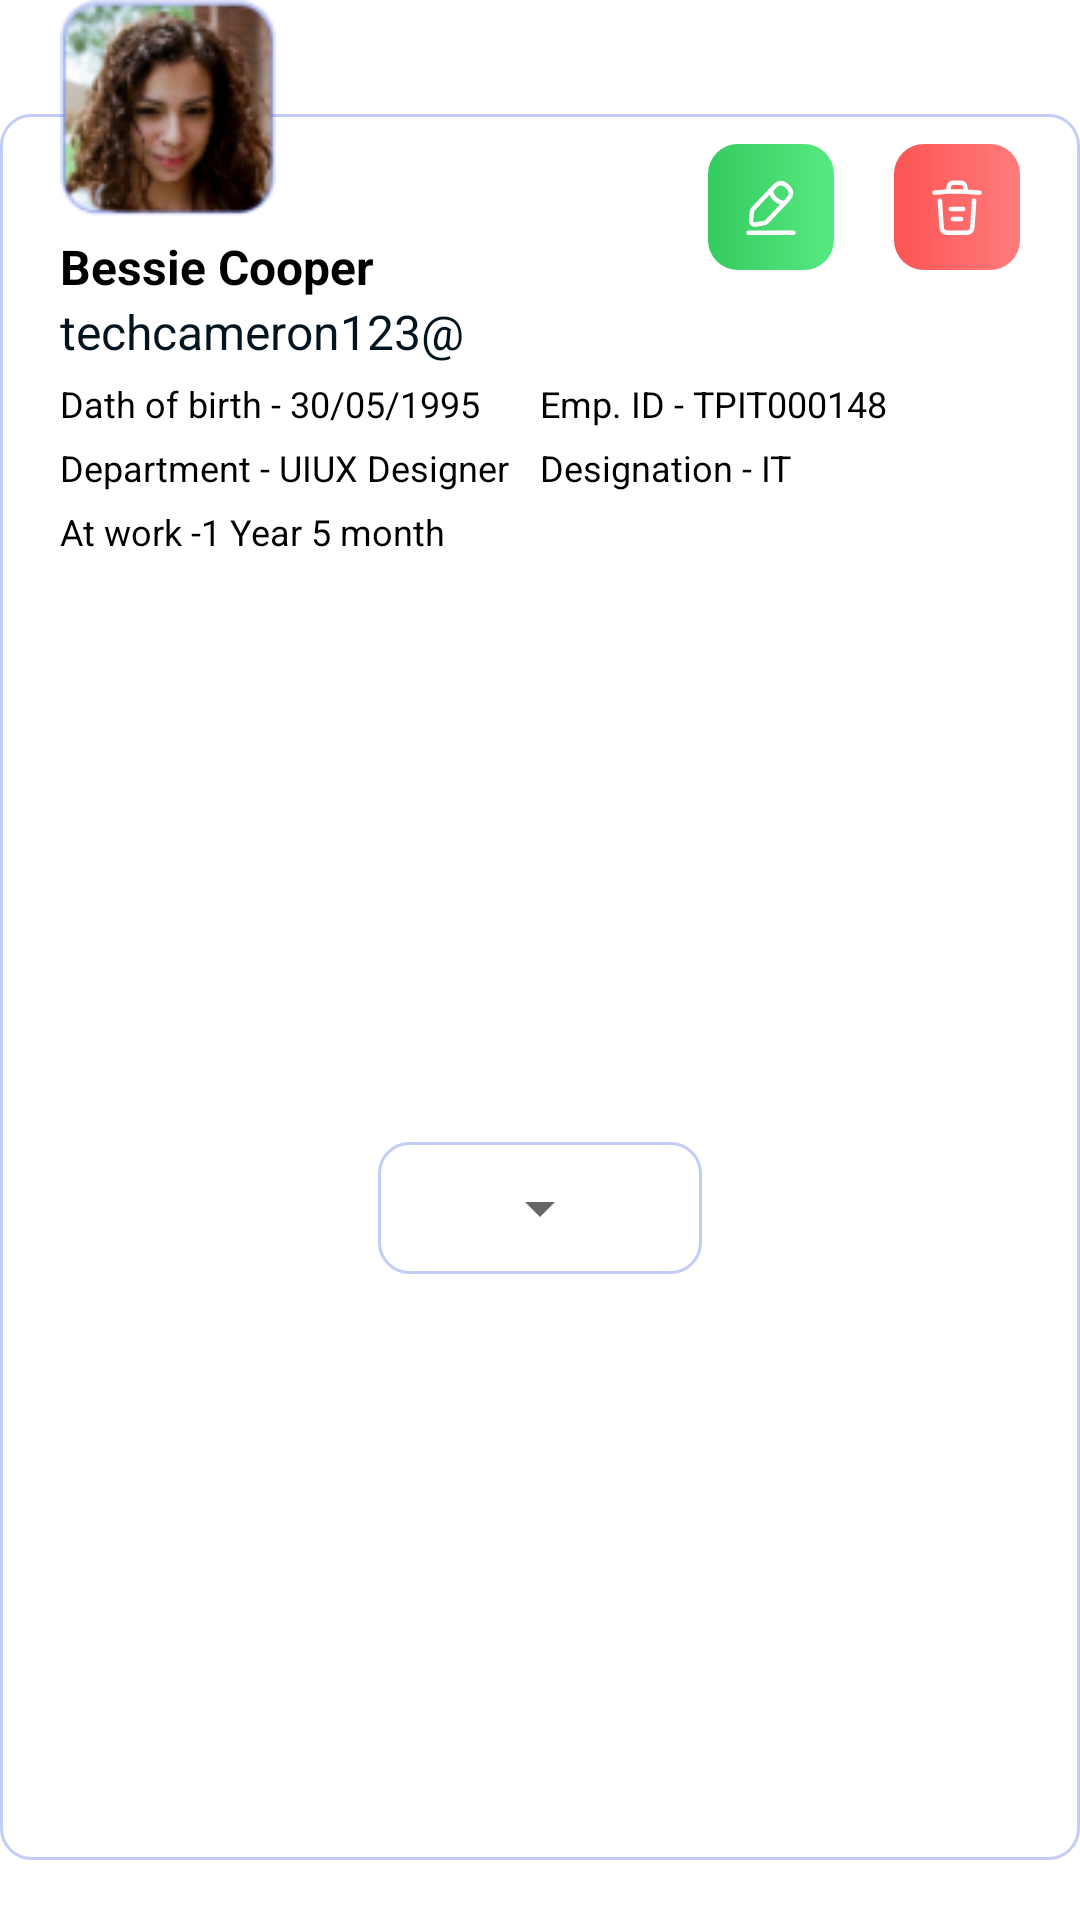

Where to tap for icons on this 1080w x 1920h app screen, as [x,y]:
delete employee: [957,207]
edit employee: [771,207]
employee: [168,107]
